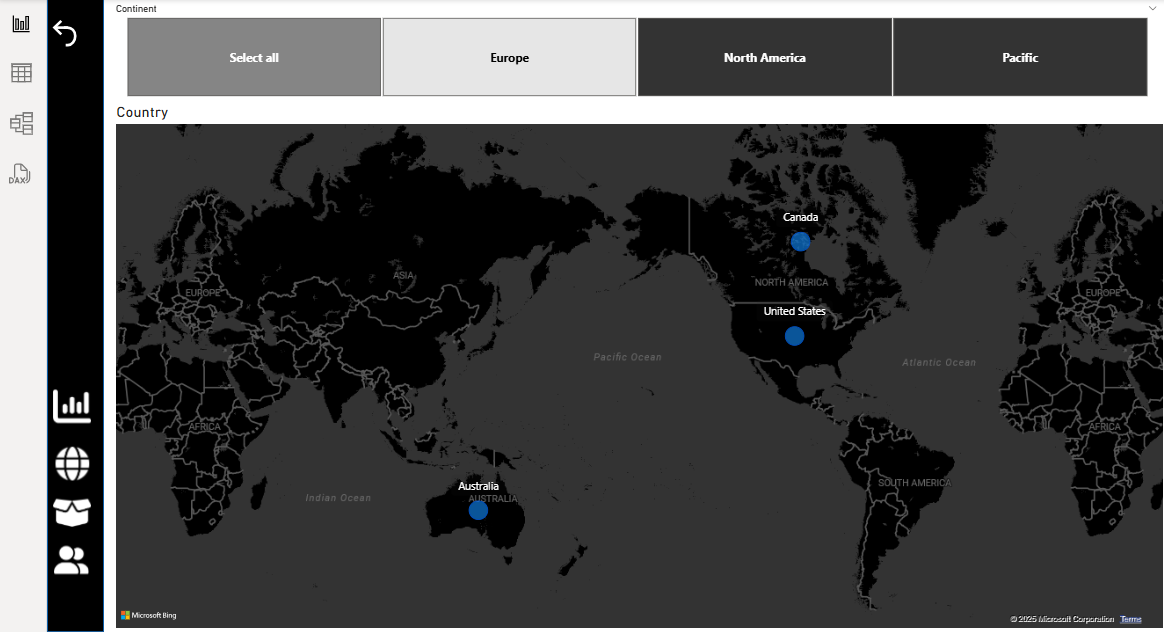

The dashboard page shown, as its layout file describes it:
{"tool":"powerbi","page":{"name":"Map","canvas":[1280,720],"ordinal":3},"visuals":[{"type":"actionButton","box":[2.4,434.1,51.4,58.7],"z":0,"group":"g1"},{"type":"map","fields":{"Category":["Territory Lookup.Country"]},"box":[74.6,117.4,1200.8,602.9],"z":0},{"type":"slicer","fields":{"Values":["Territory Lookup.Continent"]},"box":[65.2,0,1210.1,117.4],"z":1000},{"type":"actionButton","box":[4.7,500.7,46.5,56.3],"z":1000,"group":"g1"},{"type":"shape","title":"left line","box":[0,0,64.8,720.2],"z":2000},{"type":"actionButton","box":[3,559.4,51.4,55],"z":2000,"group":"g1"},{"type":"actionButton","box":[0,18.8,50.7,40.6],"z":3000},{"type":"actionButton","box":[0,613.9,55,47.7],"z":4000},{"type":"group","id":"g1","title":"Navigation Buttons","box":[2.4,434.1,52.6,181],"z":5000}]}

Visuals, with their boxes in screenshot pixels (x1, y1, x2, y2):
actionButton: [44,386,87,435]
map - Territory Lookup.Country: [104,122,1105,624]
slicer - Territory Lookup.Continent: [97,24,1105,122]
actionButton: [46,441,85,488]
"left line" shape: [42,24,96,624]
actionButton: [45,490,88,536]
actionButton: [42,40,85,74]
actionButton: [42,536,88,575]
"Navigation Buttons" group: [44,386,88,537]
